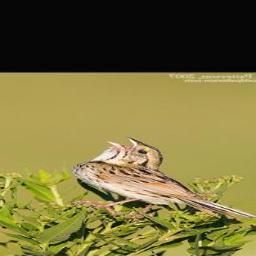Sparrow: (75, 136, 256, 220)
